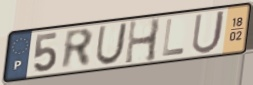5: (33, 31, 61, 74)
H: (123, 17, 163, 67)
L: (160, 17, 187, 59)
R: (60, 27, 95, 72)
U: (190, 9, 228, 56), (94, 21, 130, 67)
